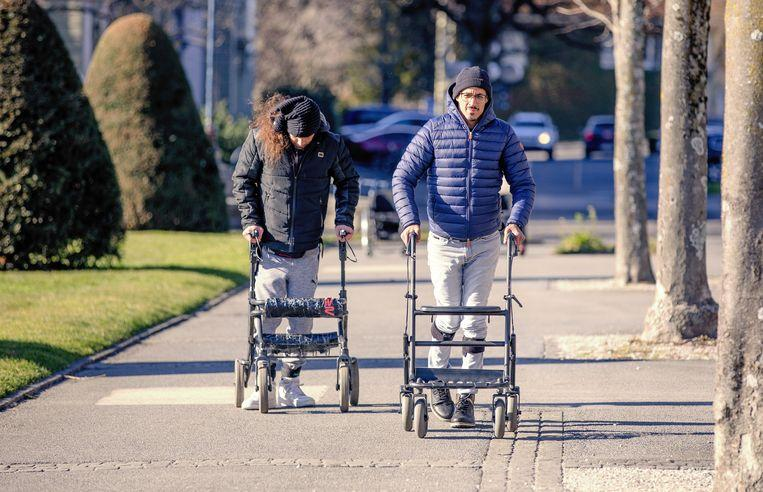walking_frame: (392, 66, 537, 438), (232, 93, 360, 414)
